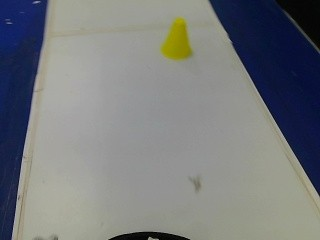cone: (156, 16, 194, 60)
